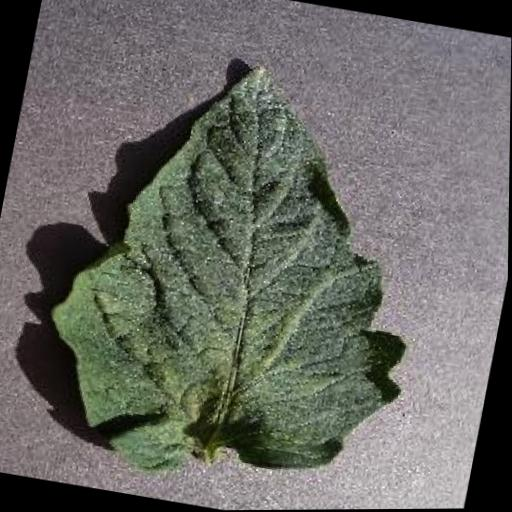Spider Mites: (27, 34, 459, 512)
